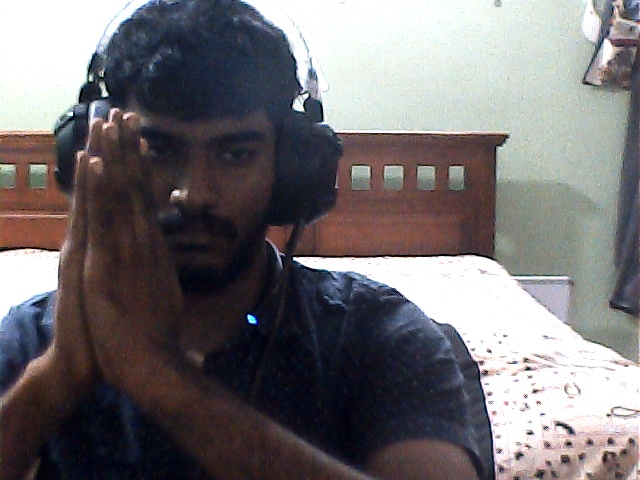Sign: (49, 107, 187, 414)
